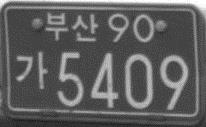0: (124, 52, 153, 110), (133, 13, 154, 42)
4: (89, 51, 119, 108)
5: (55, 51, 84, 106)
9: (159, 53, 189, 110), (108, 13, 129, 42)
가: (15, 51, 47, 90)
부산_O: (45, 11, 98, 42)
